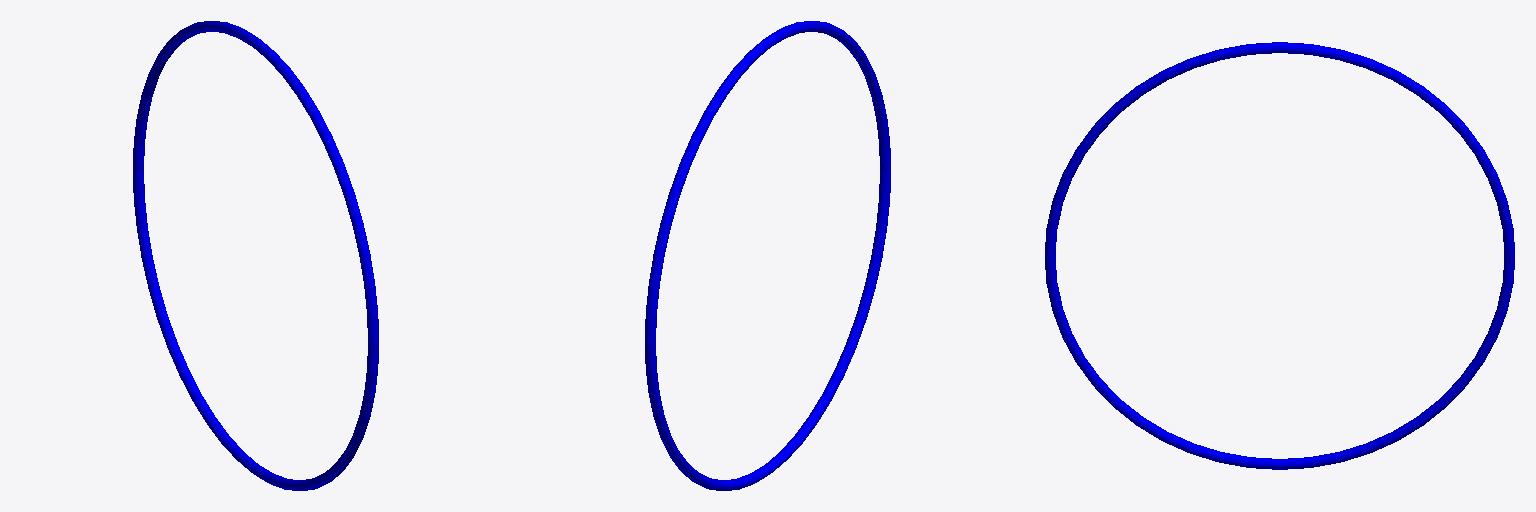
The robot description file, URDF, robot "cube.urdf":
<?xml version="0.0" ?>
<robot name="cube.urdf">
  <link name="baseLink">
    <contact>
      <lateral_friction value="1.0"/>
      <rolling_friction value="1.0"/>
      <inertia_scaling value="3.0"/>
      <contact_cfm value="0.0"/>
      <contact_erp value="1.0"/>
    </contact>
    <inertial>
      <origin rpy="0 0 0" xyz="0 0 0"/>
       <mass value=".0"/>
       <inertia ixx="1" ixy="0" ixz="0" iyy="1" iyz="0" izz="1"/>
    </inertial>
    <visual>
      <origin rpy="0 1.5708 0" xyz=" 0.48027727912621365 0.03446779854368942 1 "/>
      <geometry>
				<mesh filename="torus.obj" scale=" 0.3999999999999999 0.3999999999999999 0.3999999999999999 "/>
      </geometry>
       <material name="white">
        <color rgba="0 0 1 1"/>
      </material>
    </visual>
    <collision>
      <origin rpy="0 0 0" xyz="0 0 0"/>
      <geometry>
	 	<mesh filename="torus.obj" scale="0 0 0"/>
      </geometry>
    </collision>
  </link>
</robot>

--- Facts derived from the render (not from the file) ---
Views: 3 orthographic renders of the robot side by side, from view 1: azimuth 30°, elevation 25°; view 2: azimuth 150°, elevation 25°; view 3: azimuth 270°, elevation 25°.
Model cube.urdf with 1 links and 0 joints (none), rooted at baseLink, posed all joints at 0.
Visible links, largest first — view 1: baseLink; view 2: baseLink; view 3: baseLink.
Boxes of the visible links, bbox=[...] form: baseLink: bbox=[133, 21, 378, 490]; baseLink: bbox=[645, 21, 890, 490]; baseLink: bbox=[1045, 42, 1514, 469].
Bounding box of the posed robot: 0.0192 × 0.8192 × 0.8192 m (x, y, z).
1 mesh visuals loaded from 1 distinct referenced files (1 OBJ).